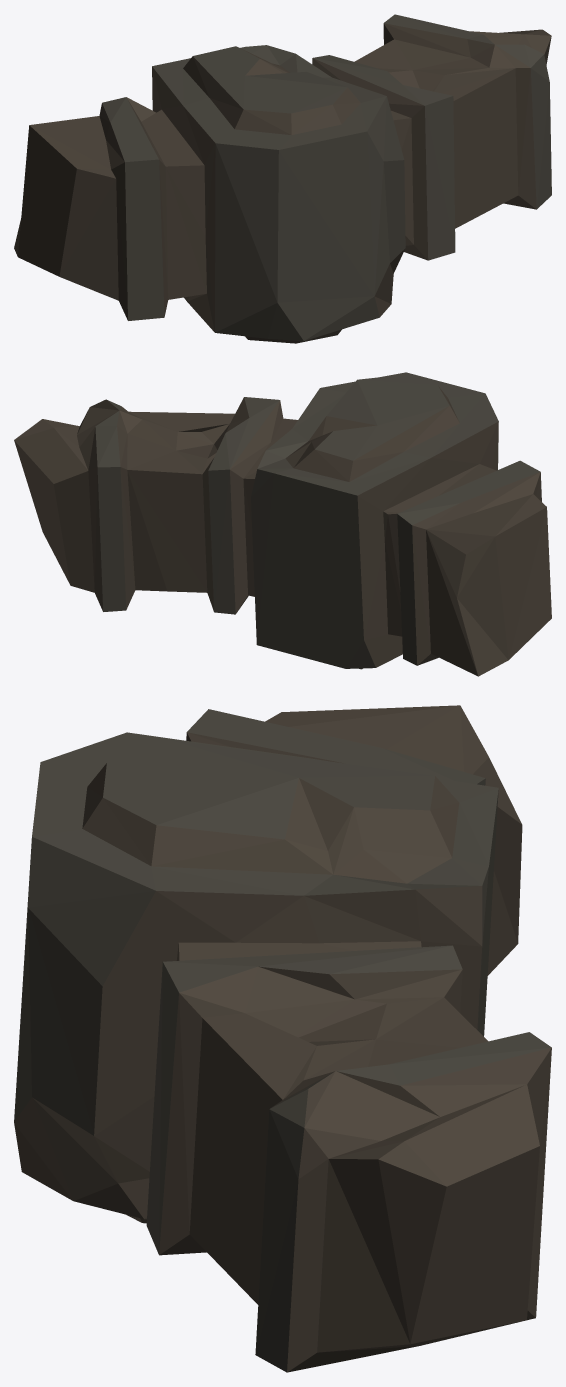
3 renders of one model, top to bottom at view 1: azimuth 30°, elevation 25°; view 2: azimuth 150°, elevation 25°; view 3: azimuth 270°, elevation 25°, orthographic. The views are drawn at different scales.
Visible parts, largest first — view 1: SM_Prop_Pillar_Arch_Broken_02; view 2: SM_Prop_Pillar_Arch_Broken_02; view 3: SM_Prop_Pillar_Arch_Broken_02.
Part boxes in pixels (x1,y1,x2,y2): SM_Prop_Pillar_Arch_Broken_02: [14, 14, 551, 343]; SM_Prop_Pillar_Arch_Broken_02: [14, 372, 551, 676]; SM_Prop_Pillar_Arch_Broken_02: [14, 705, 551, 1372].
Bounding box in the file's own units: 1.41 × 0.6014 × 0.7139.
1 material, 1 textured.
